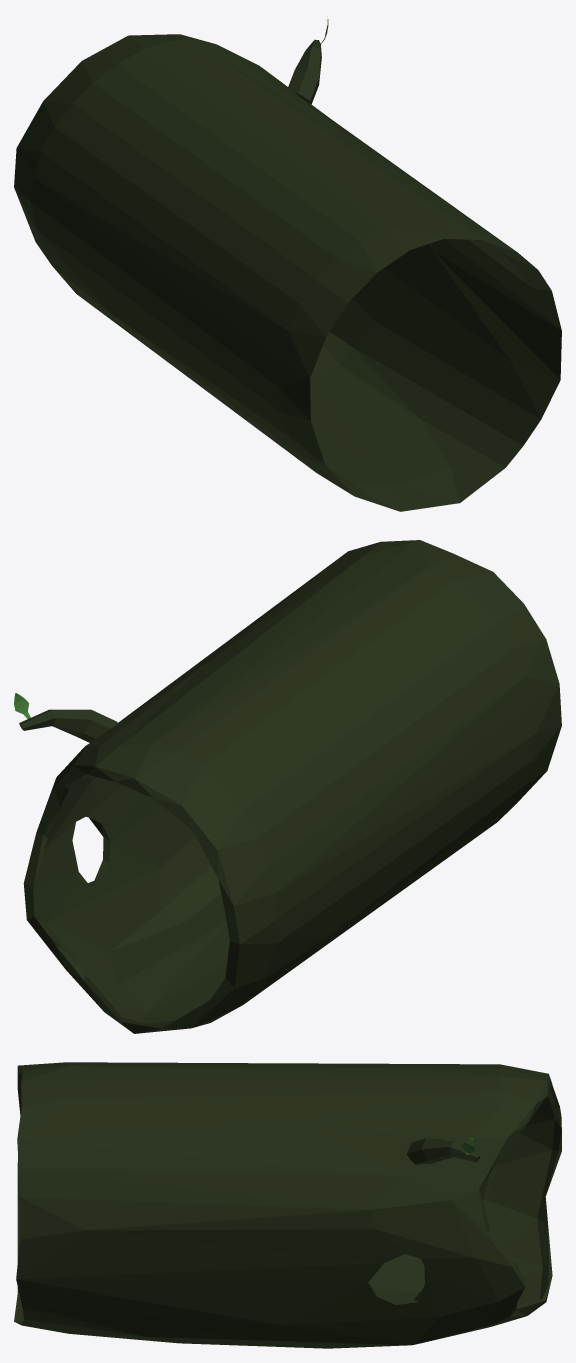
Rendered from log.fbx.
3 renders of one model, top to bottom at view 1: azimuth 30°, elevation 25°; view 2: azimuth 150°, elevation 25°; view 3: azimuth 270°, elevation 25°, orthographic. The views are drawn at different scales.
Parts seen in each view (by area): view 1: Cube, Cylinder.001; view 2: Cube, Cylinder.001; view 3: Cube, Cylinder.001.
Boxes of the visible parts, x1=… form: Cube: x1=14, y1=34, x2=561, y2=511; Cylinder.001: x1=288, y1=39, x2=321, y2=104; Cube: x1=23, y1=540, x2=561, y2=1033; Cylinder.001: x1=19, y1=709, x2=117, y2=742; Cube: x1=14, y1=1062, x2=561, y2=1348; Cylinder.001: x1=407, y1=1138, x2=479, y2=1164.
Bounding box in the file's own units: 2.07 × 1.96 × 3.98.
